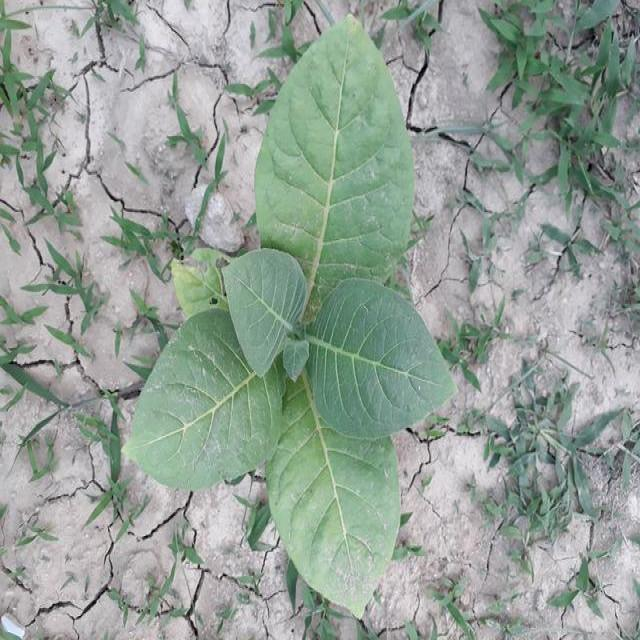crop: (128, 23, 432, 614)
